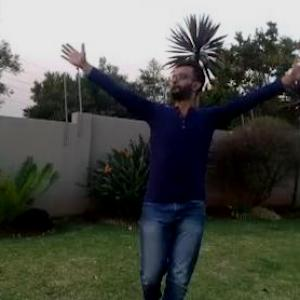takeoff: (65, 48, 299, 296)
